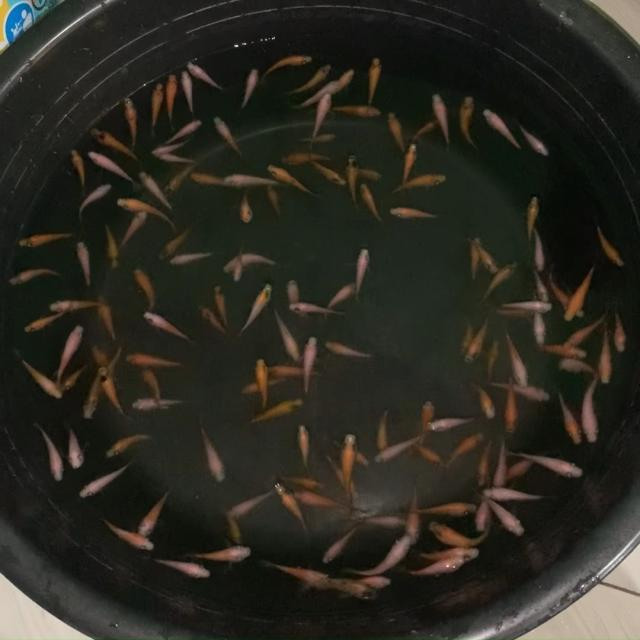nila: (345, 530, 410, 576), (130, 482, 176, 544), (296, 576, 382, 606), (72, 458, 136, 498), (473, 492, 525, 540), (560, 262, 600, 324), (16, 352, 64, 402), (273, 480, 313, 538), (480, 106, 530, 152), (548, 271, 594, 320), (115, 196, 180, 230), (54, 322, 86, 390), (196, 417, 228, 484), (33, 424, 67, 486), (370, 432, 432, 466), (323, 519, 365, 569), (518, 450, 590, 478), (99, 518, 154, 554), (91, 125, 143, 163), (266, 162, 320, 198), (263, 560, 325, 591), (426, 519, 493, 547), (89, 148, 138, 186), (247, 398, 304, 430), (140, 310, 190, 346), (580, 373, 604, 448), (455, 94, 484, 156), (139, 168, 178, 214), (240, 282, 274, 334), (271, 308, 303, 362), (404, 554, 472, 579), (336, 431, 356, 515), (503, 328, 531, 388), (325, 457, 362, 502), (443, 430, 489, 466), (428, 91, 456, 150), (556, 388, 584, 447), (294, 492, 369, 514), (160, 159, 200, 200), (562, 312, 606, 349), (155, 222, 194, 263), (220, 250, 286, 274), (424, 411, 486, 436), (99, 366, 128, 418), (86, 334, 112, 392), (289, 60, 332, 95), (105, 432, 155, 462), (152, 555, 212, 580), (185, 61, 230, 94), (290, 78, 339, 108), (78, 182, 112, 225), (414, 498, 480, 520), (498, 374, 520, 440), (116, 207, 150, 249), (484, 260, 520, 299), (413, 542, 483, 562), (466, 234, 501, 274), (465, 314, 493, 364), (226, 489, 274, 518), (186, 544, 252, 564), (517, 122, 553, 158), (596, 220, 624, 266), (335, 578, 393, 600), (405, 480, 422, 555), (284, 301, 354, 319), (356, 180, 386, 222), (320, 279, 358, 312), (300, 336, 322, 393), (594, 323, 613, 389), (95, 292, 119, 344), (263, 51, 315, 75), (322, 338, 376, 361), (310, 90, 333, 144), (392, 171, 448, 193), (468, 377, 498, 418), (308, 156, 349, 186), (480, 383, 552, 400), (363, 53, 384, 111), (500, 451, 539, 482), (164, 116, 207, 144), (4, 265, 64, 285), (131, 265, 155, 315), (343, 150, 363, 210), (332, 436, 369, 468), (129, 396, 190, 415), (148, 134, 196, 158), (374, 404, 396, 456), (406, 436, 444, 466), (266, 364, 329, 382), (139, 366, 164, 411), (236, 66, 260, 112), (96, 341, 124, 380), (194, 303, 227, 336), (57, 360, 91, 392), (15, 230, 75, 248), (126, 354, 186, 372), (215, 115, 242, 154), (386, 202, 444, 220), (474, 436, 494, 488), (417, 398, 437, 450), (237, 374, 284, 396), (610, 309, 631, 358), (278, 150, 335, 168), (400, 140, 418, 197), (223, 173, 283, 190), (22, 312, 66, 335), (386, 110, 408, 156), (556, 356, 600, 379), (252, 356, 270, 412), (524, 192, 542, 248), (474, 487, 496, 532), (64, 424, 85, 471), (148, 79, 164, 139), (356, 244, 372, 304), (354, 512, 414, 528), (489, 486, 549, 502), (166, 250, 213, 270), (492, 439, 509, 494), (323, 106, 388, 120), (266, 181, 287, 224), (48, 299, 108, 314), (124, 94, 140, 150), (500, 302, 547, 321), (186, 169, 230, 189), (181, 70, 200, 116), (535, 341, 586, 358), (455, 315, 477, 354), (76, 239, 93, 289), (527, 269, 552, 303), (84, 372, 102, 419), (528, 304, 549, 344), (529, 224, 547, 270), (211, 283, 230, 326), (344, 164, 388, 182), (272, 474, 321, 490), (500, 298, 556, 312), (165, 70, 178, 130), (296, 424, 312, 472), (467, 233, 483, 281), (286, 276, 304, 318), (487, 339, 502, 389), (104, 224, 121, 268), (410, 116, 440, 140), (70, 148, 86, 192), (225, 509, 242, 547), (152, 150, 200, 163), (238, 190, 254, 225), (300, 132, 340, 146), (337, 67, 358, 89), (234, 245, 244, 281)
